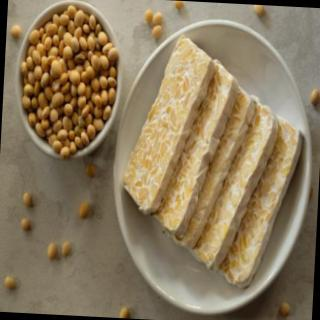Tempe: (115, 29, 312, 297)
